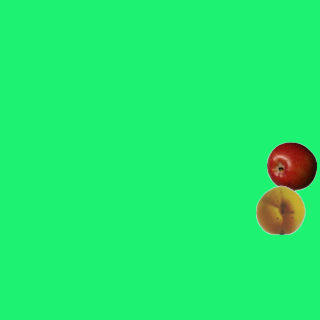Apple Braeburn: (266, 141, 316, 191)
Peach 2: (255, 184, 305, 234)
